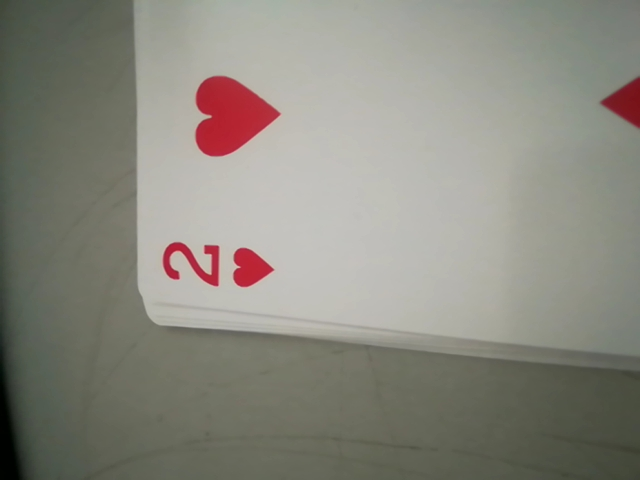hx 2: (156, 229, 290, 303)
